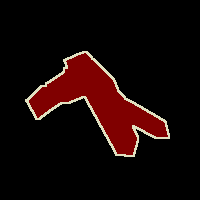tie: (26, 51, 169, 156)
